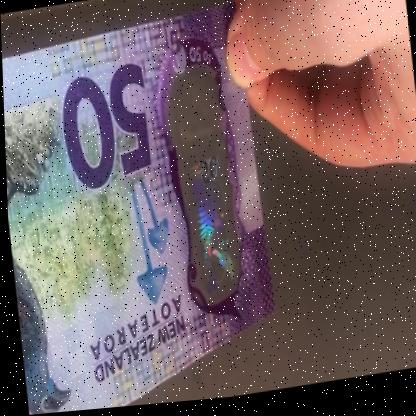50B: (175, 90, 238, 301)
